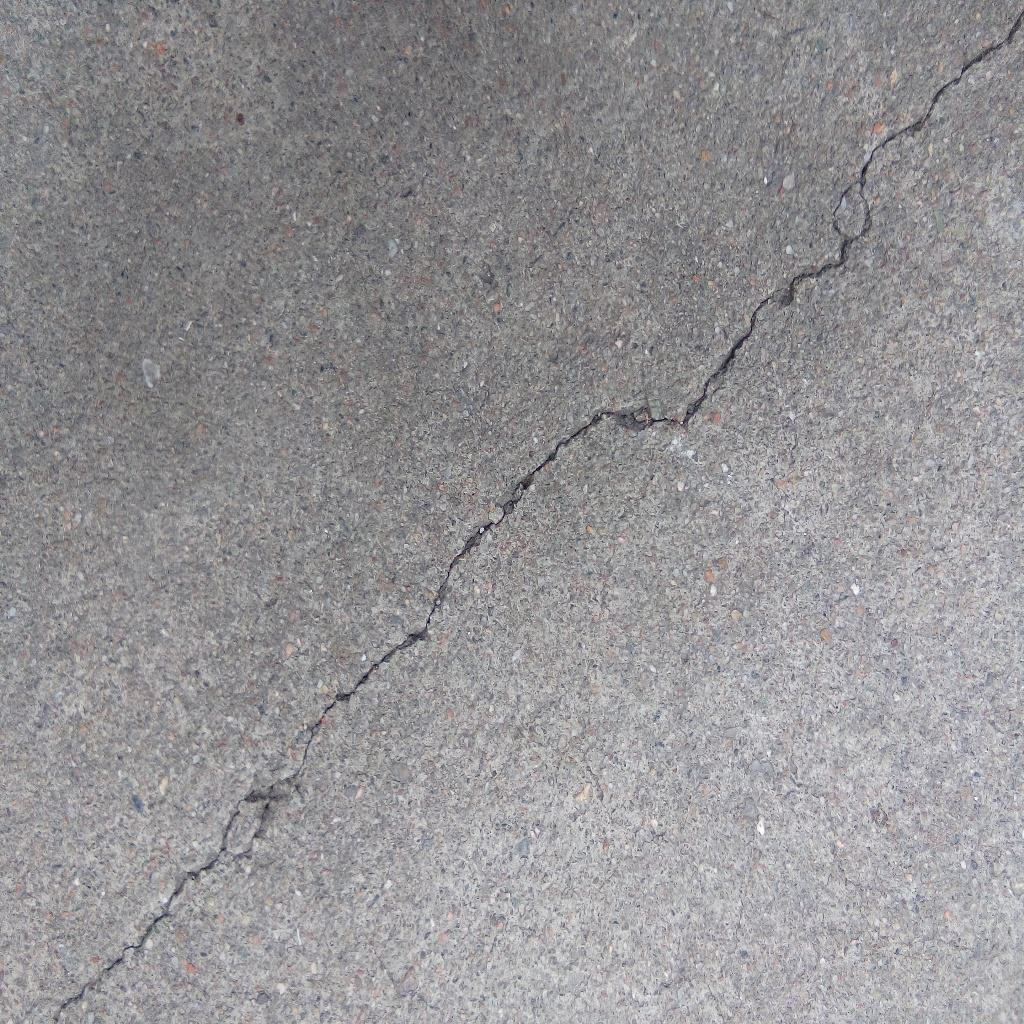Crack: (49, 9, 1024, 1024)
